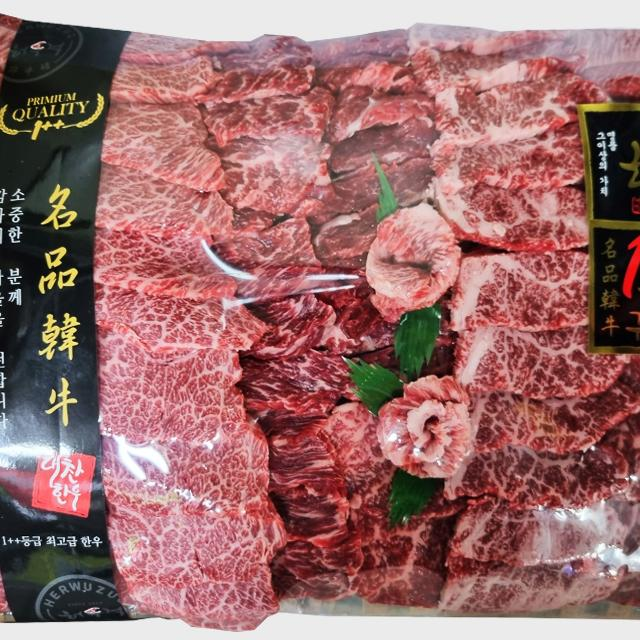beef: (0, 49, 640, 598)
